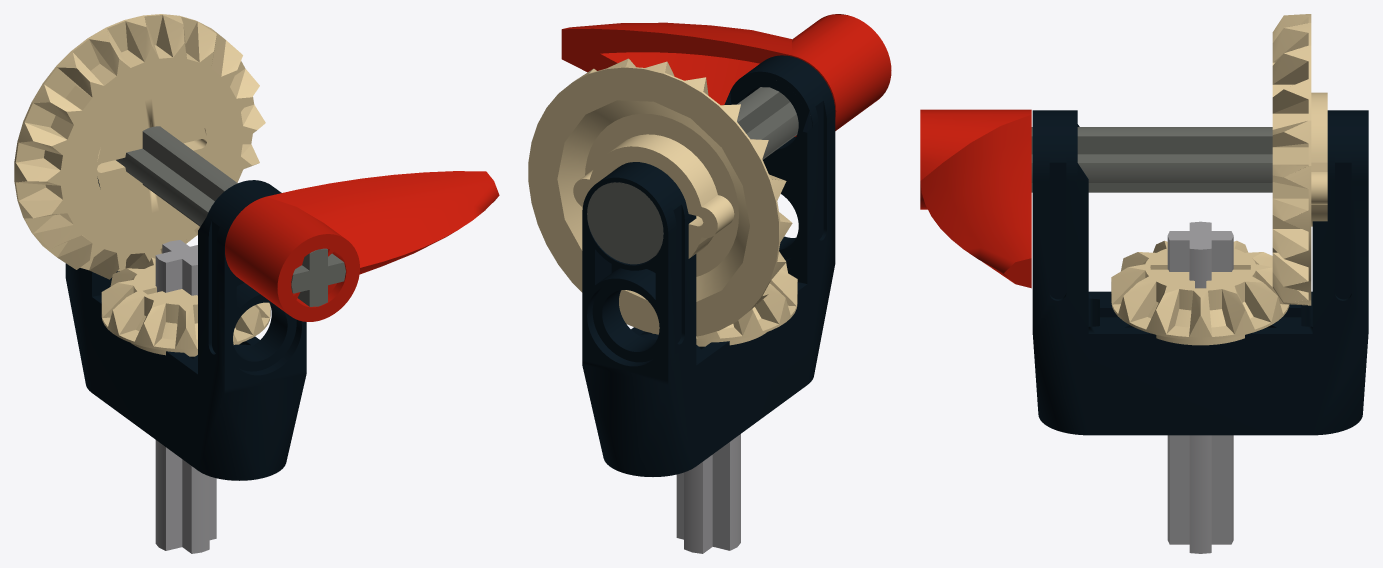
The model's file is 90_degree.glb.
3 renders of one model, left to right at view 1: azimuth 30°, elevation 25°; view 2: azimuth 150°, elevation 25°; view 3: azimuth 270°, elevation 25°, orthographic. The views are drawn at different scales.
Parts seen in each view (by area): view 1: 32198.dat, 87408.dat, 41669.dat, 87083.dat, 4519.dat, 6589.dat; view 2: 87408.dat, 32198.dat, 41669.dat, 87083.dat, 4519.dat, 6589.dat; view 3: 87408.dat, 41669.dat, 32198.dat, 87083.dat, 6589.dat, 4519.dat.
Boxes of the visible parts, x1,y1,x2,y2 form: 32198.dat: (14, 14, 265, 279); 87408.dat: (65, 178, 306, 480); 41669.dat: (225, 171, 499, 321); 87083.dat: (116, 126, 345, 306); 4519.dat: (155, 240, 216, 553); 6589.dat: (101, 257, 270, 356); 87408.dat: (582, 55, 835, 476); 32198.dat: (528, 58, 792, 336); 41669.dat: (561, 14, 891, 136); 87083.dat: (587, 87, 798, 264); 4519.dat: (676, 434, 740, 553); 6589.dat: (652, 263, 797, 346); 87408.dat: (1032, 110, 1368, 435); 41669.dat: (920, 109, 1031, 288); 32198.dat: (1272, 14, 1327, 305); 87083.dat: (1031, 127, 1272, 192); 6589.dat: (1111, 240, 1289, 345); 4519.dat: (1167, 221, 1233, 553).
Bounding box in the file's own units: 0.7373 × 1.01 × 0.798.
